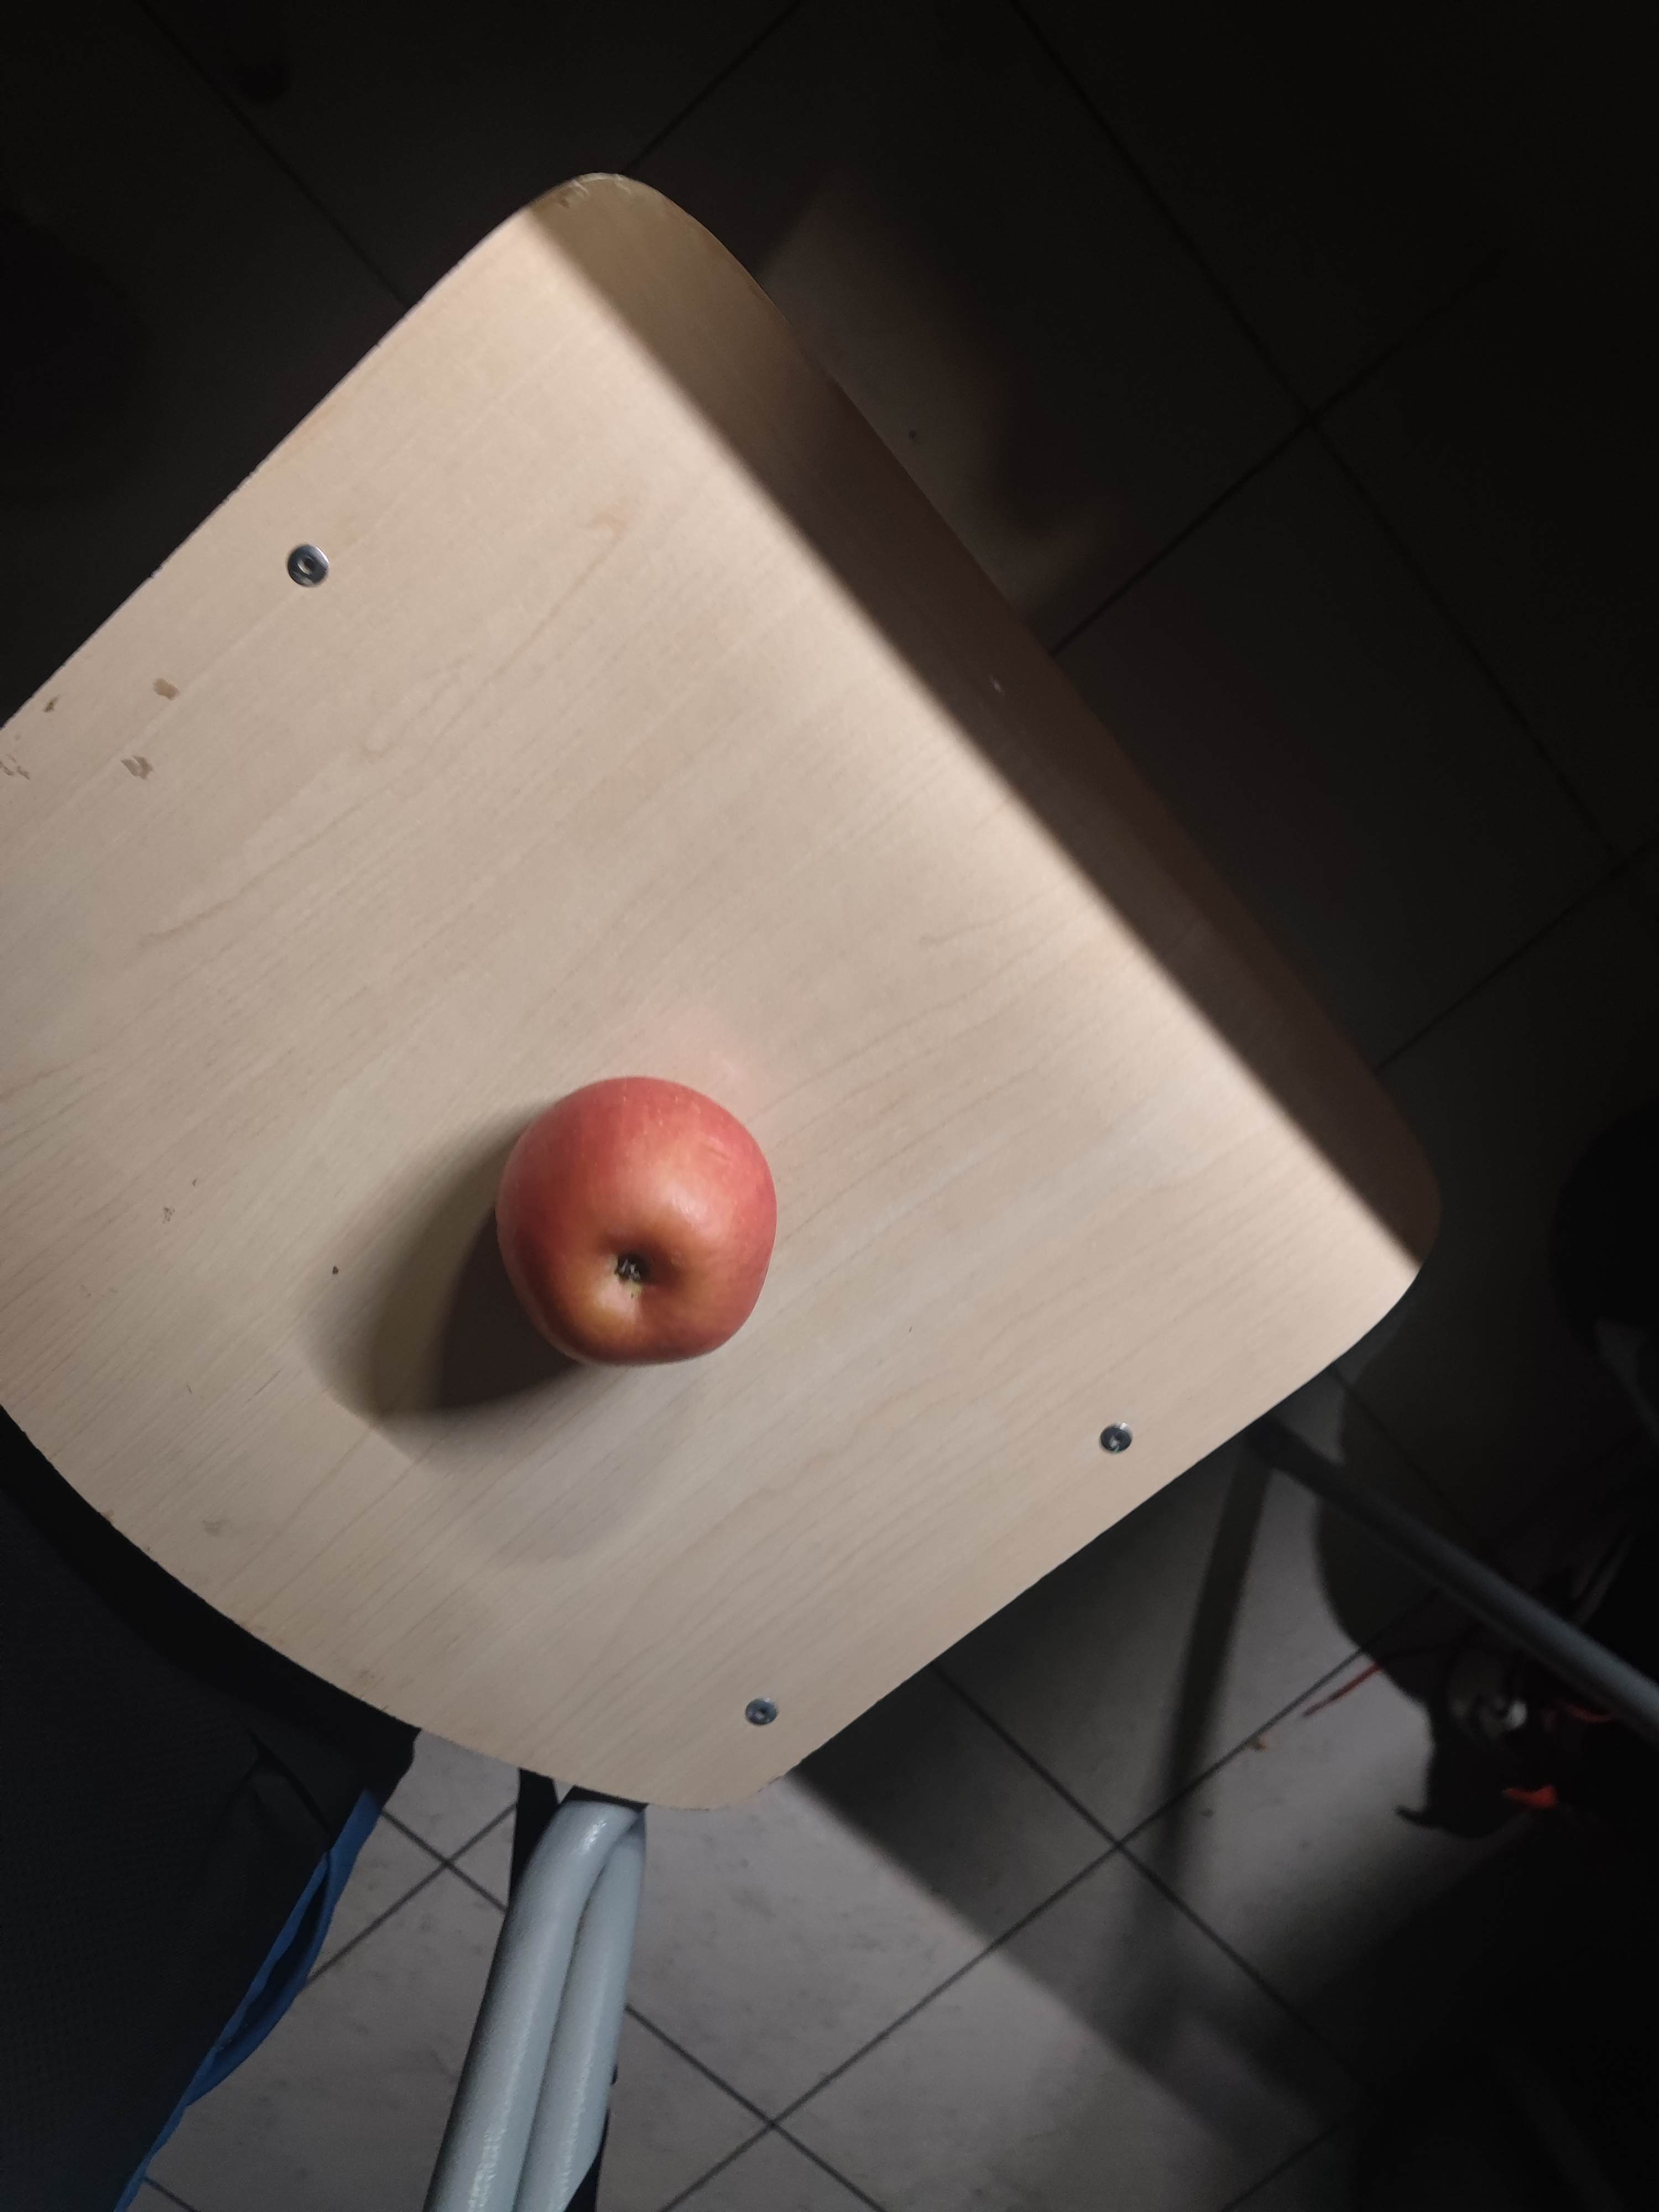apple: (497, 1078, 779, 1372)
